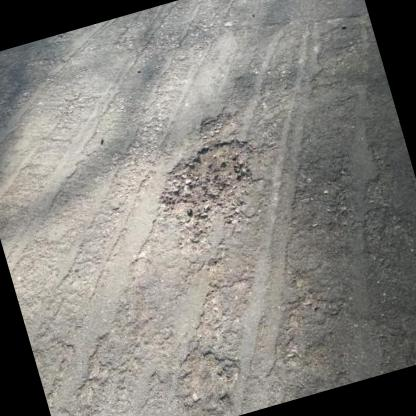pothole: (140, 130, 274, 246), (194, 108, 236, 142)
